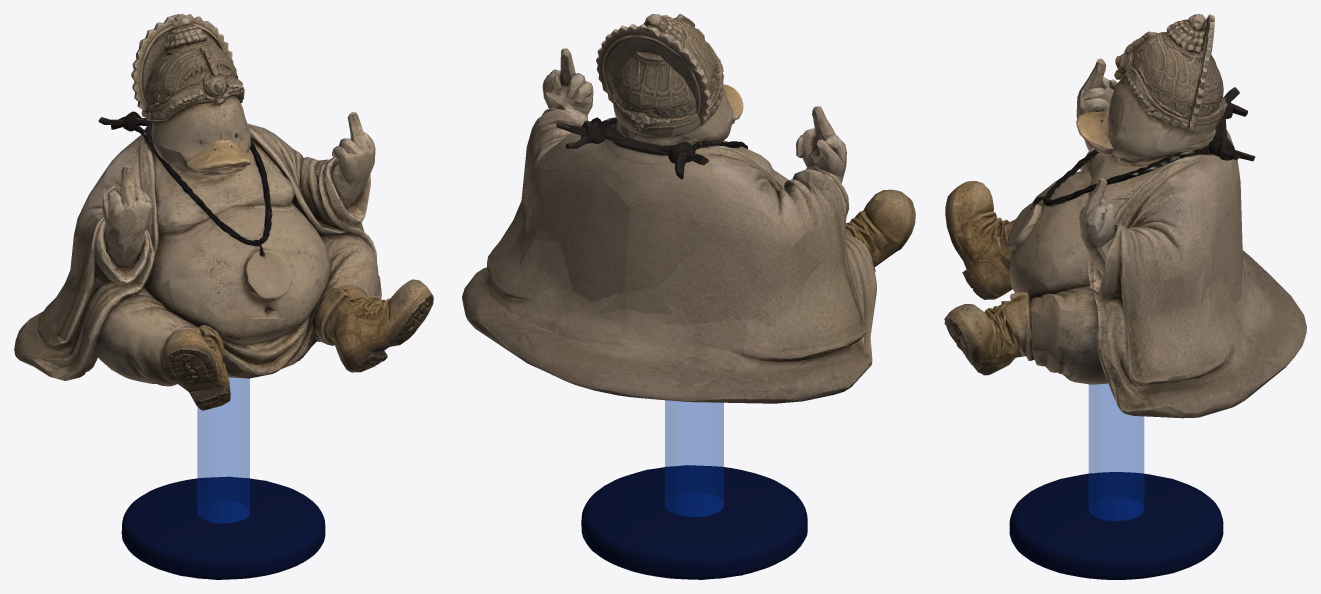
Rendered from duddha.glb.
3 views of the same model, side by side, from view 1: azimuth 30°, elevation 25°; view 2: azimuth 150°, elevation 25°; view 3: azimuth 270°, elevation 25° (orthographic). The views are drawn at different scales.
Parts seen in each view (by area): view 1: output_unwrapped, Cylinder.006, Cylinder.003; view 2: output_unwrapped, Cylinder.006, Cylinder.003; view 3: output_unwrapped, Cylinder.006, Cylinder.003.
Boxes of the visible parts, <box> form: output_unwrapped: <box>14,14,433,410</box>; Cylinder.006: <box>121,476,325,579</box>; Cylinder.003: <box>197,377,249,523</box>; output_unwrapped: <box>462,14,915,403</box>; Cylinder.006: <box>581,465,807,579</box>; Cylinder.003: <box>665,400,723,516</box>; output_unwrapped: <box>944,14,1306,418</box>; Cylinder.006: <box>1009,472,1223,579</box>; Cylinder.003: <box>1089,384,1143,520</box>.
Size of the model in its own units: 1.36 by 1.87 by 1.16.
3 materials, 1 textured.
